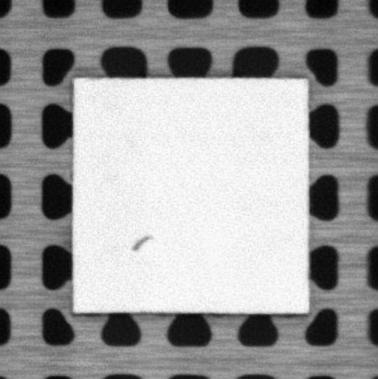DIE_INK: (130, 233, 154, 252)
